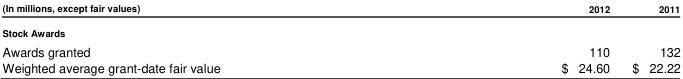table: (1, 0, 679, 75)
table column: (1, 0, 390, 75), (390, 0, 620, 75), (620, 0, 679, 75)
table column header: (1, 0, 679, 20)
table projected row header: (1, 20, 679, 40)
table row: (1, 0, 679, 20), (1, 20, 679, 40), (1, 40, 679, 59), (1, 59, 679, 75)
